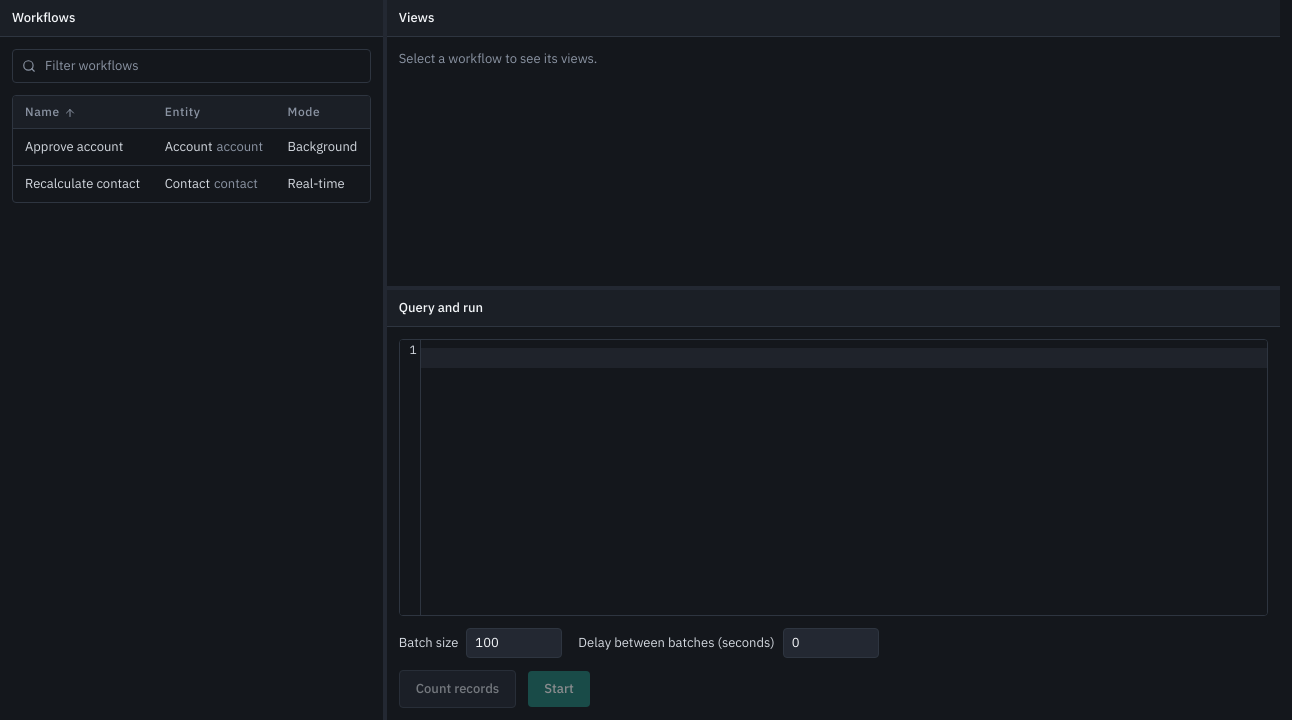
Bulk Workflow Execution › shows a zero count without enabling Start, and a server error as an error line
Step 1. Click the text "Approve account" → (83, 147), box [13,128,153,166]
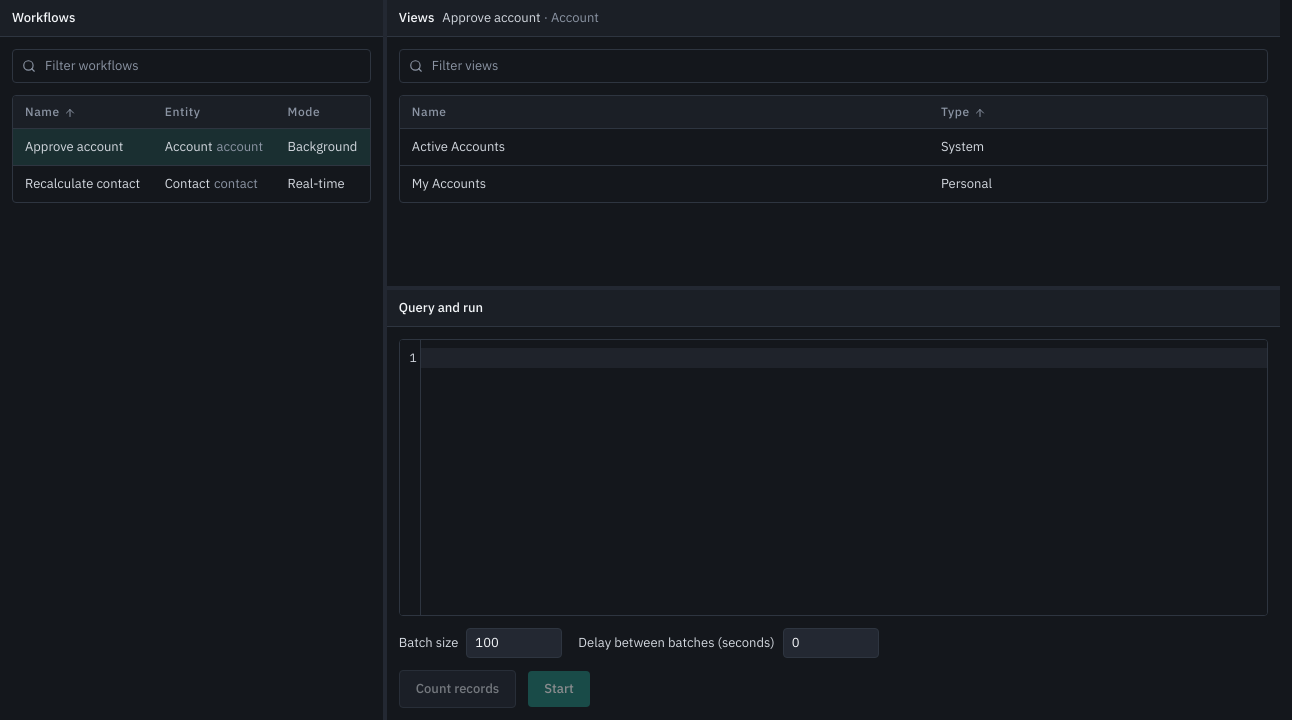
Step 2. Click the text "Active Accounts" → (458, 146), box [400,128,929,166]
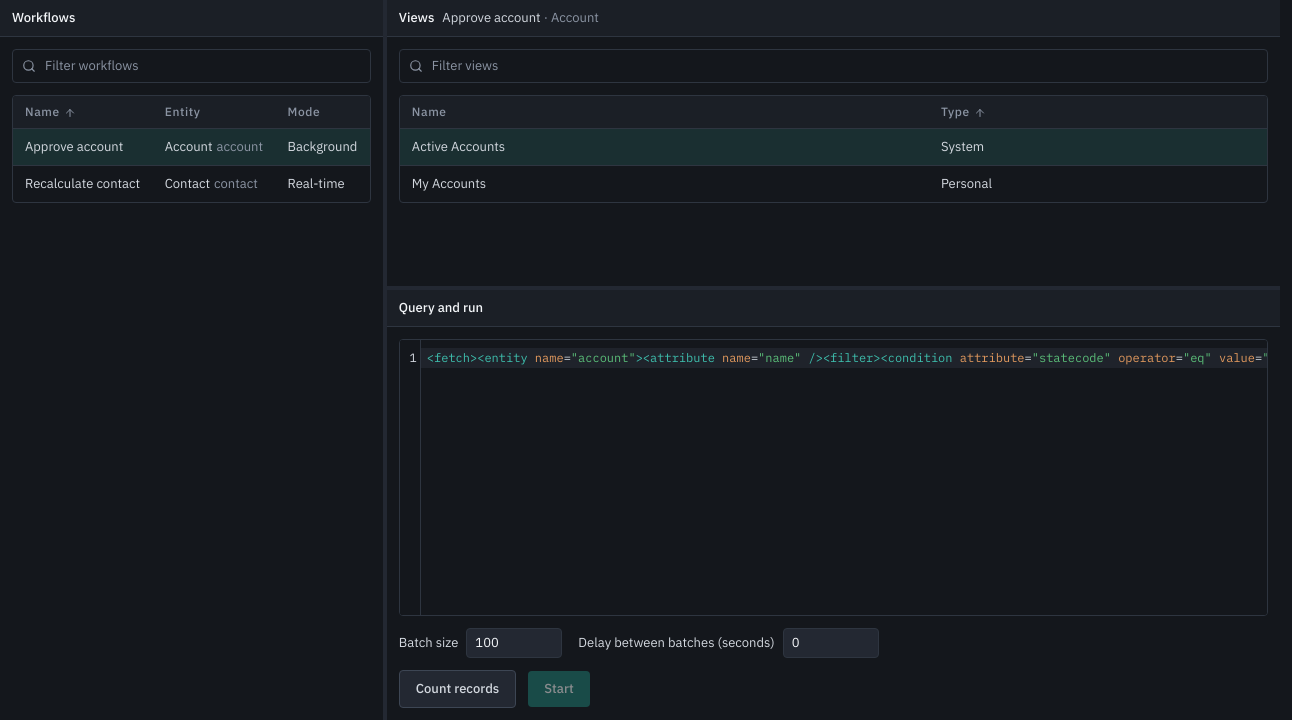
Step 3. Click the button "Count records" → (458, 689), box [399,670,516,708]
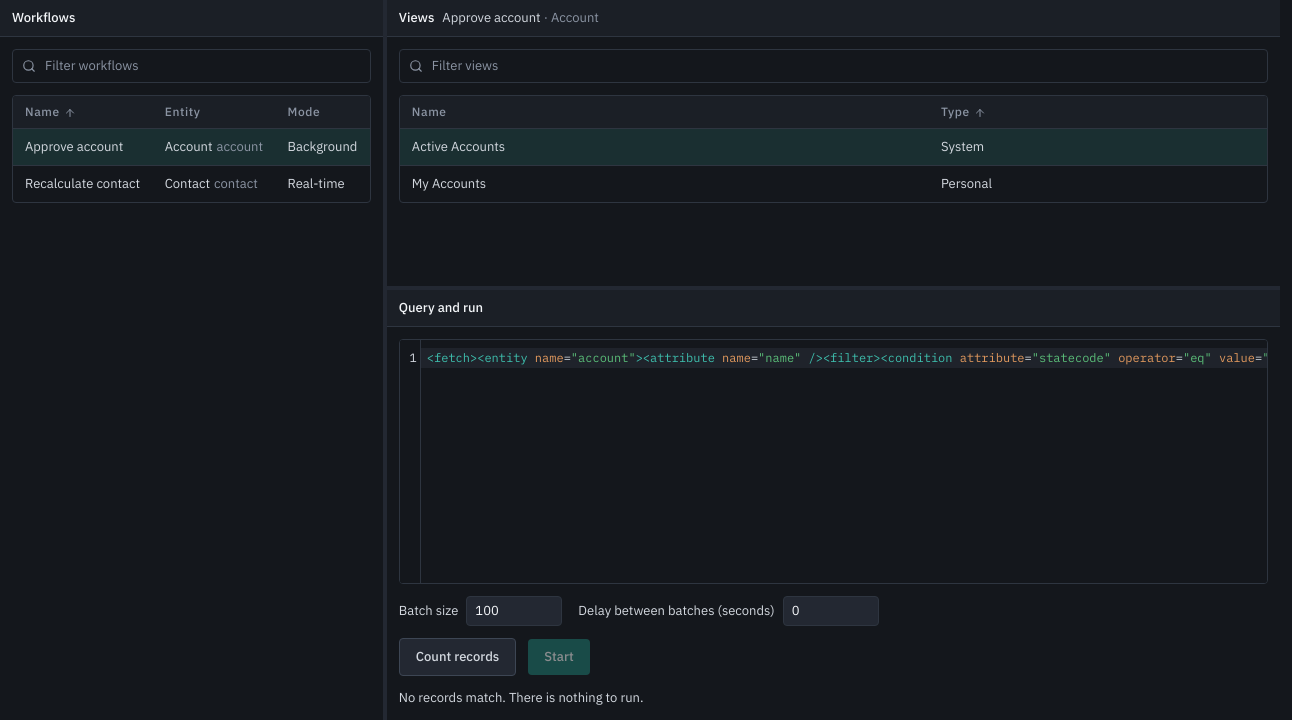
Expected: the button "Start" is disabled, [528,639,590,675]
Result: the text "No records match. There is nothing to run." is shown at [399,689,644,706]
Step 4. Click the button "Count records" → (458, 657), box [399,638,516,676]
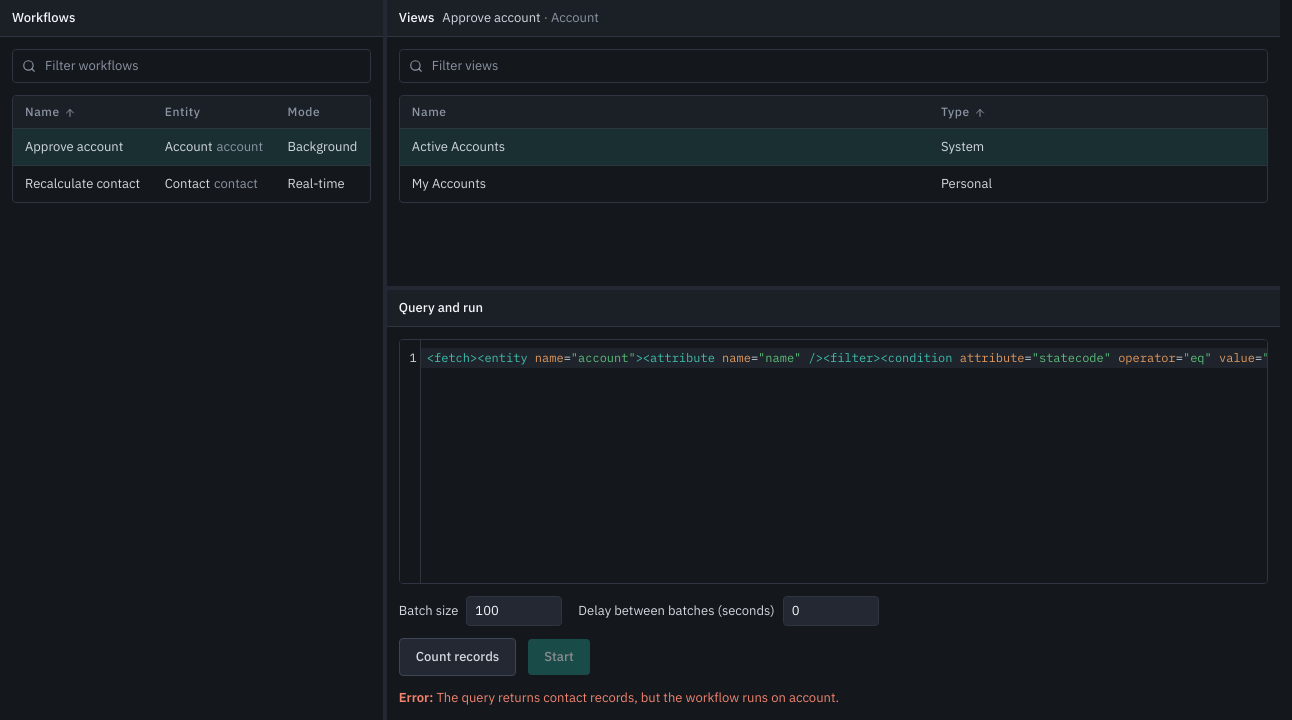
Expected: the button "Start" is disabled, [528,639,590,675]
Result: the message reads "Error: The query returns contact records, but the workflow runs on account." at [399,689,839,706]
